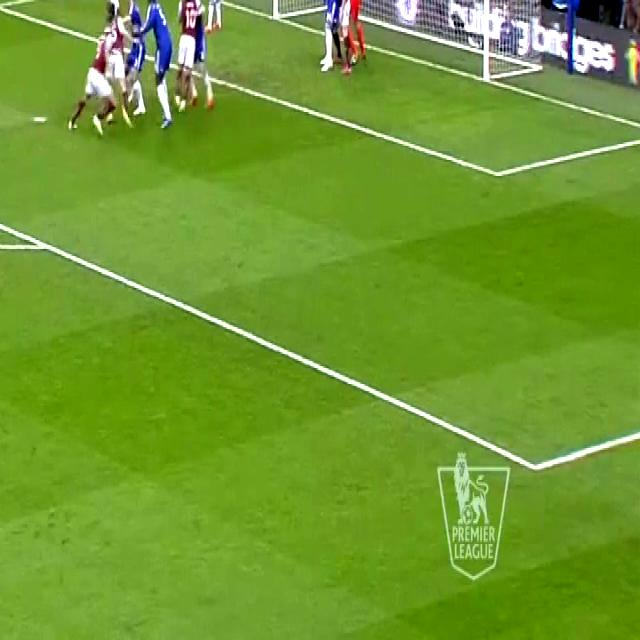goalkeeper: (338, 0, 372, 64)
soccer-player: (75, 16, 116, 146), (100, 2, 136, 148), (138, 0, 174, 130), (182, 0, 222, 112), (120, 0, 150, 121), (328, 0, 356, 92), (173, 0, 194, 114), (313, 0, 336, 73), (197, 0, 234, 44), (86, 0, 126, 7)
